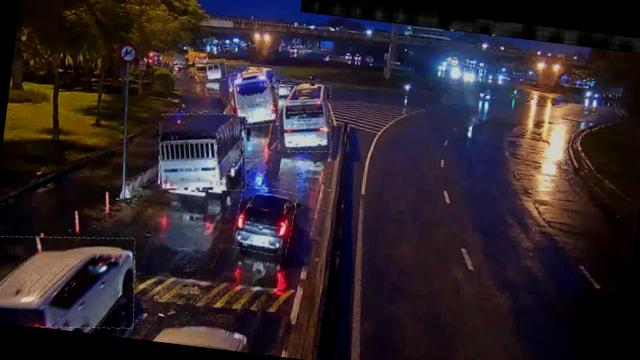Bus: (273, 82, 336, 156), (225, 68, 282, 132), (194, 57, 227, 83)
Car: (0, 225, 141, 337), (232, 184, 298, 256)
Truck: (154, 106, 252, 197)
